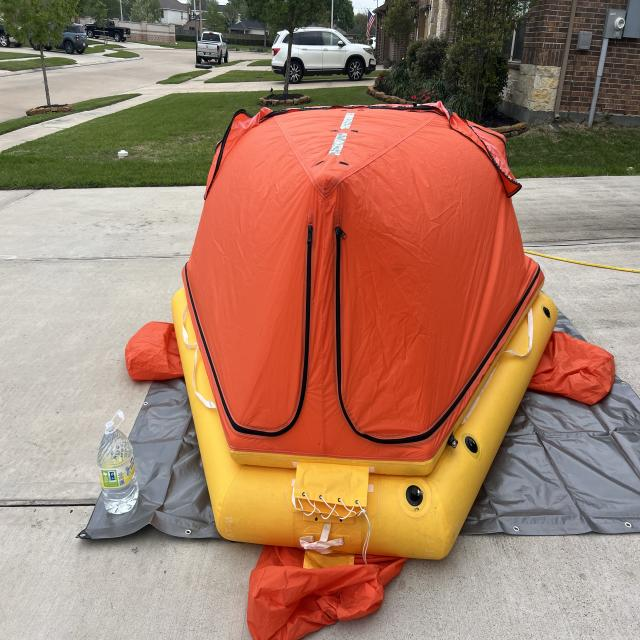Multi-person_life_raft: (124, 98, 614, 639)
